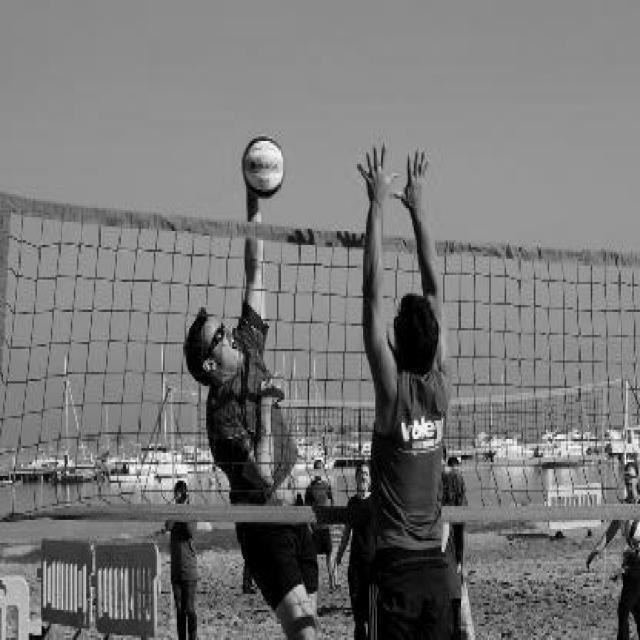volleyball: (240, 134, 284, 198)
